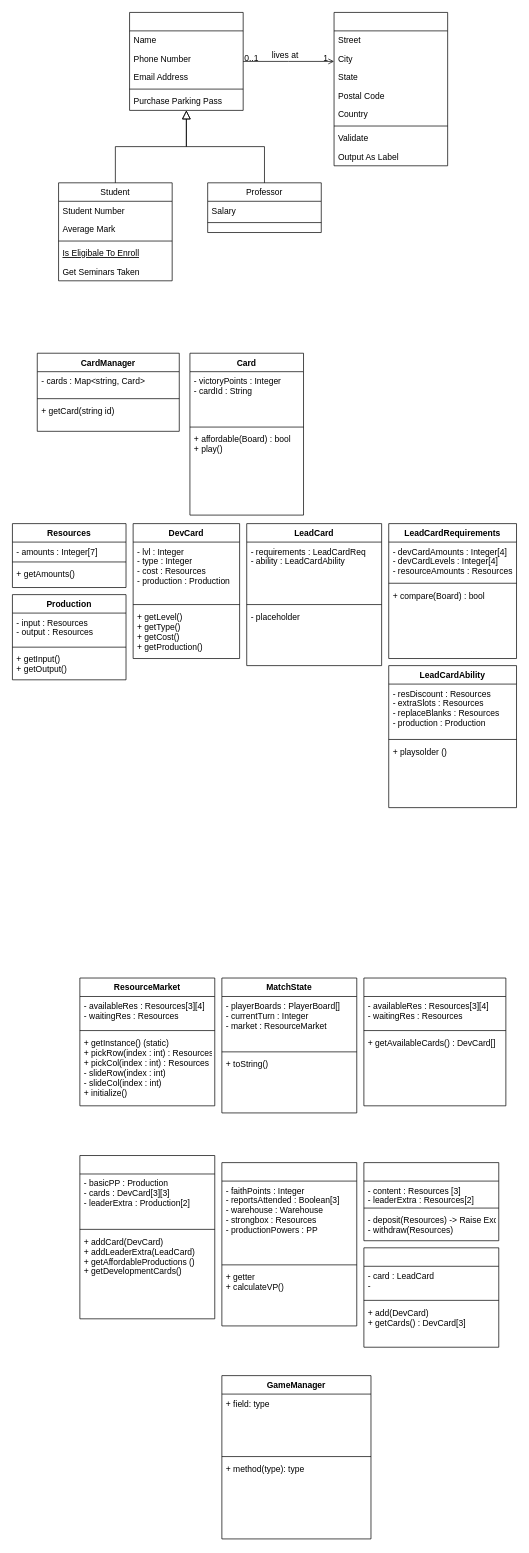
Some shapes in this 529 by 1553 pixel diagram are drawn without their labels. The box of each missing label's shape, as (x1, y1, x2, y2) in pixels:
Address: (333, 12, 448, 166)
DevCardMarket: (363, 977, 506, 1106)
Person: (129, 12, 243, 110)
PlayableLeadCart: (363, 1247, 499, 1347)
PlayerBoard: (221, 1162, 357, 1326)
ProductionPowers: (79, 1155, 215, 1319)
Warehouse: (363, 1162, 499, 1241)
